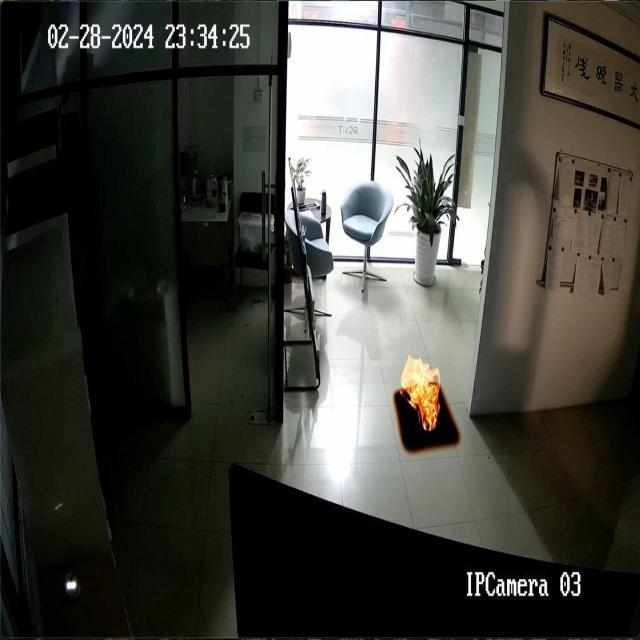smoke: (399, 349, 442, 431)
